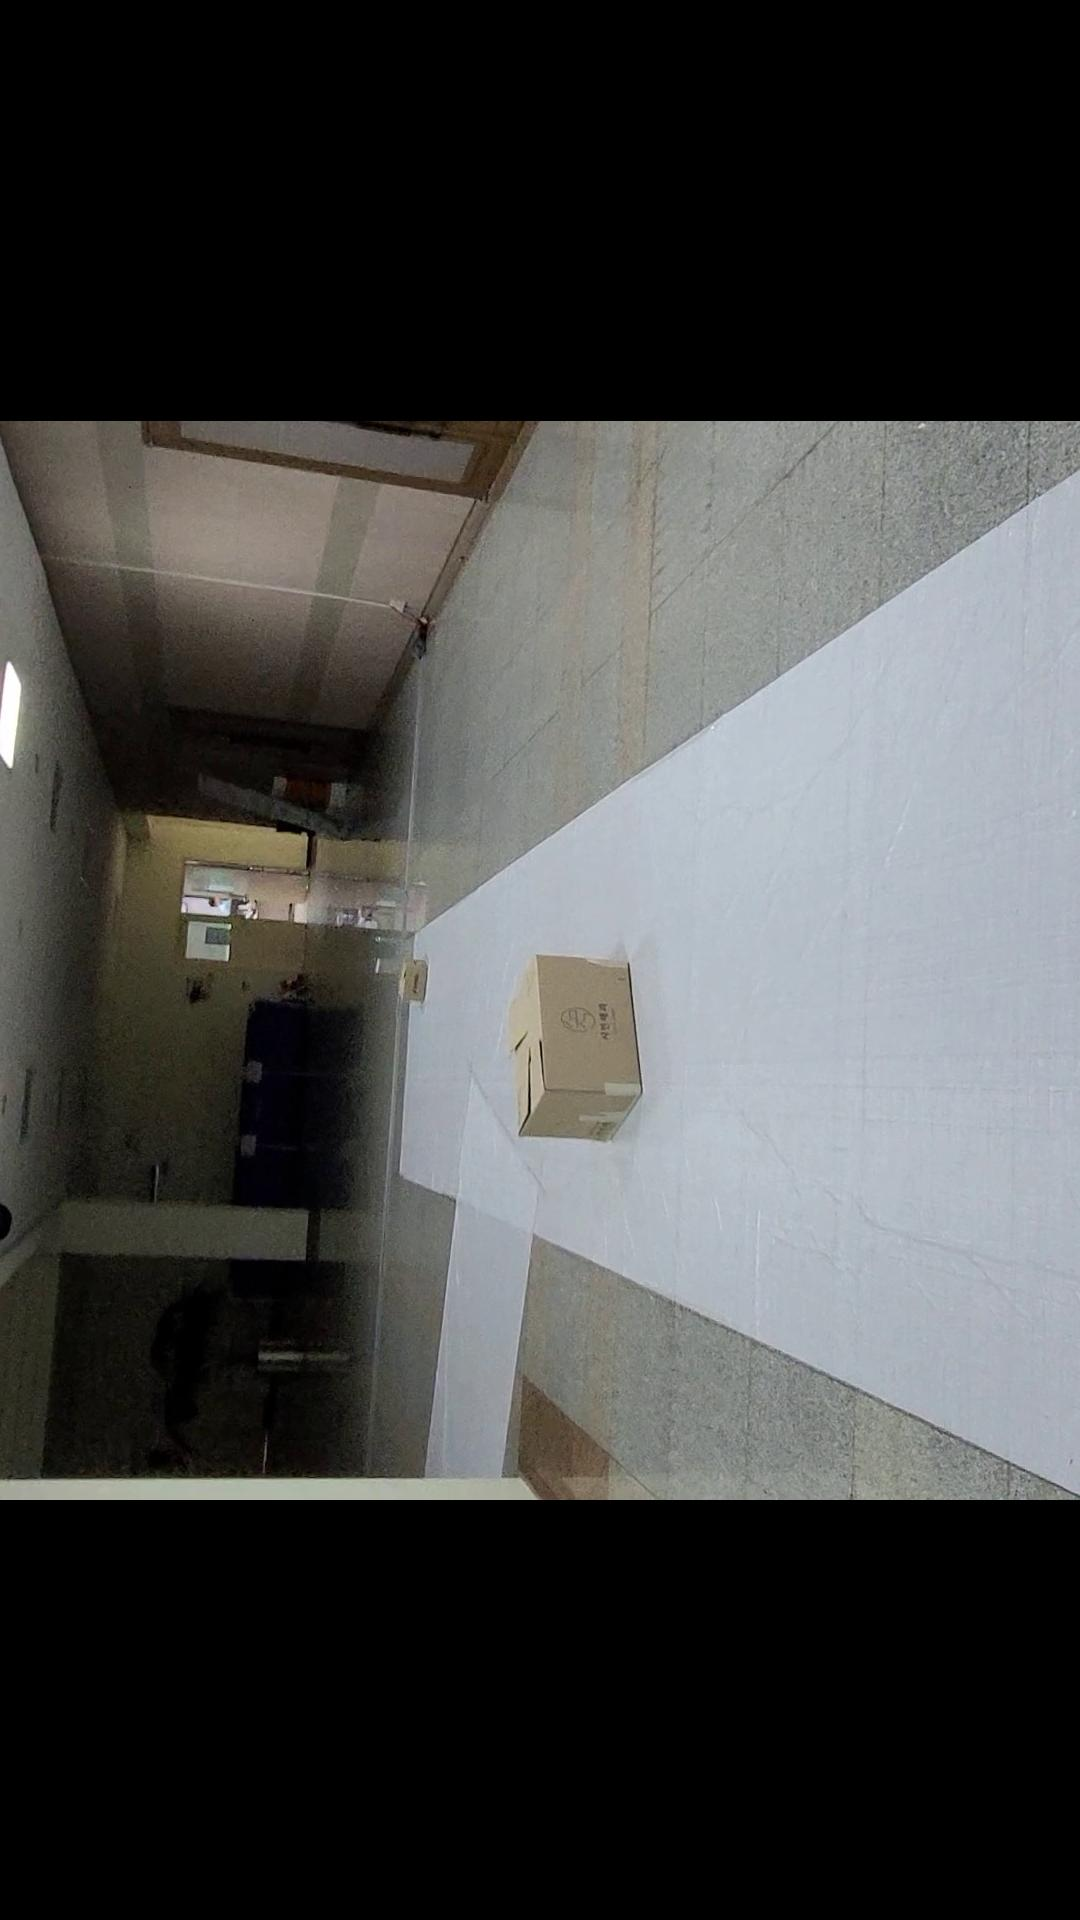Box: (455, 882, 687, 1240)
